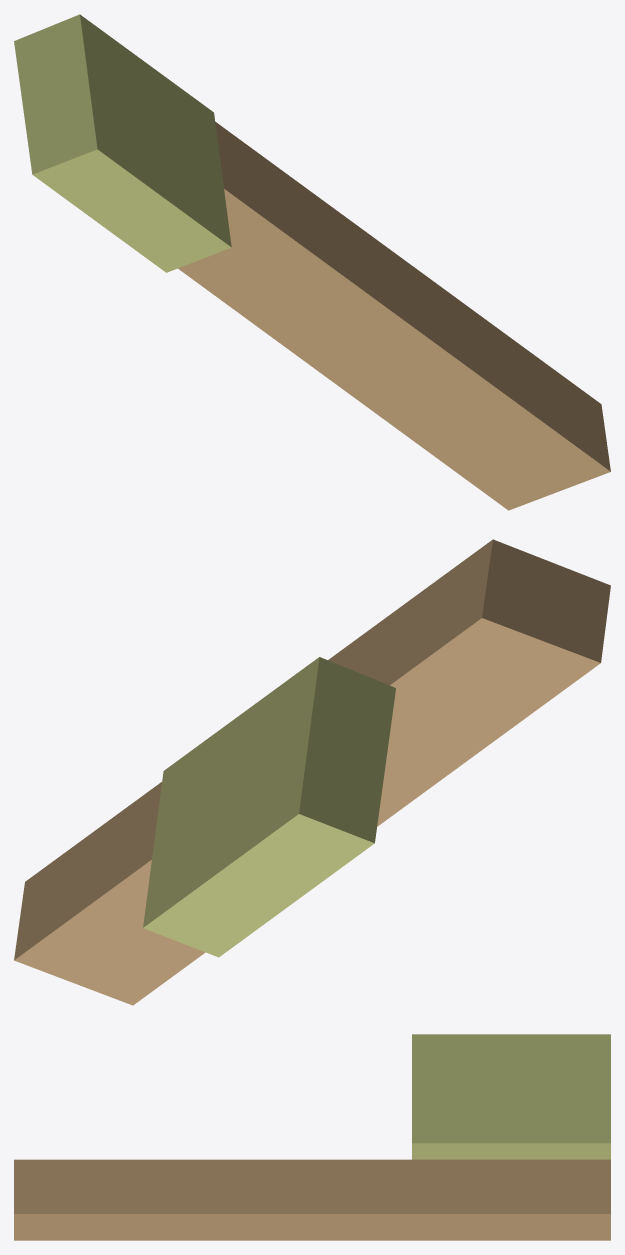
The picture shows the model from 3 angles, top to bottom: view 1: azimuth 30°, elevation 25°; view 2: azimuth 150°, elevation 25°; view 3: azimuth 270°, elevation 25°; orthographic projection. The views are drawn at different scales.
Visible parts, largest first — view 1: 0_1_3_2_1_1_2_0_0_1_0; view 2: 0_1_3_2_1_1_2_0_0_1_0; view 3: 0_1_3_2_1_1_2_0_0_1_0.
Boxes of the visible parts, <box> form: 0_1_3_2_1_1_2_0_0_1_0: <box>14,14,610,510</box>; 0_1_3_2_1_1_2_0_0_1_0: <box>14,539,610,1005</box>; 0_1_3_2_1_1_2_0_0_1_0: <box>14,1034,610,1240</box>.
Size of the model in its own units: 7.53 by 7.7 by 27.
